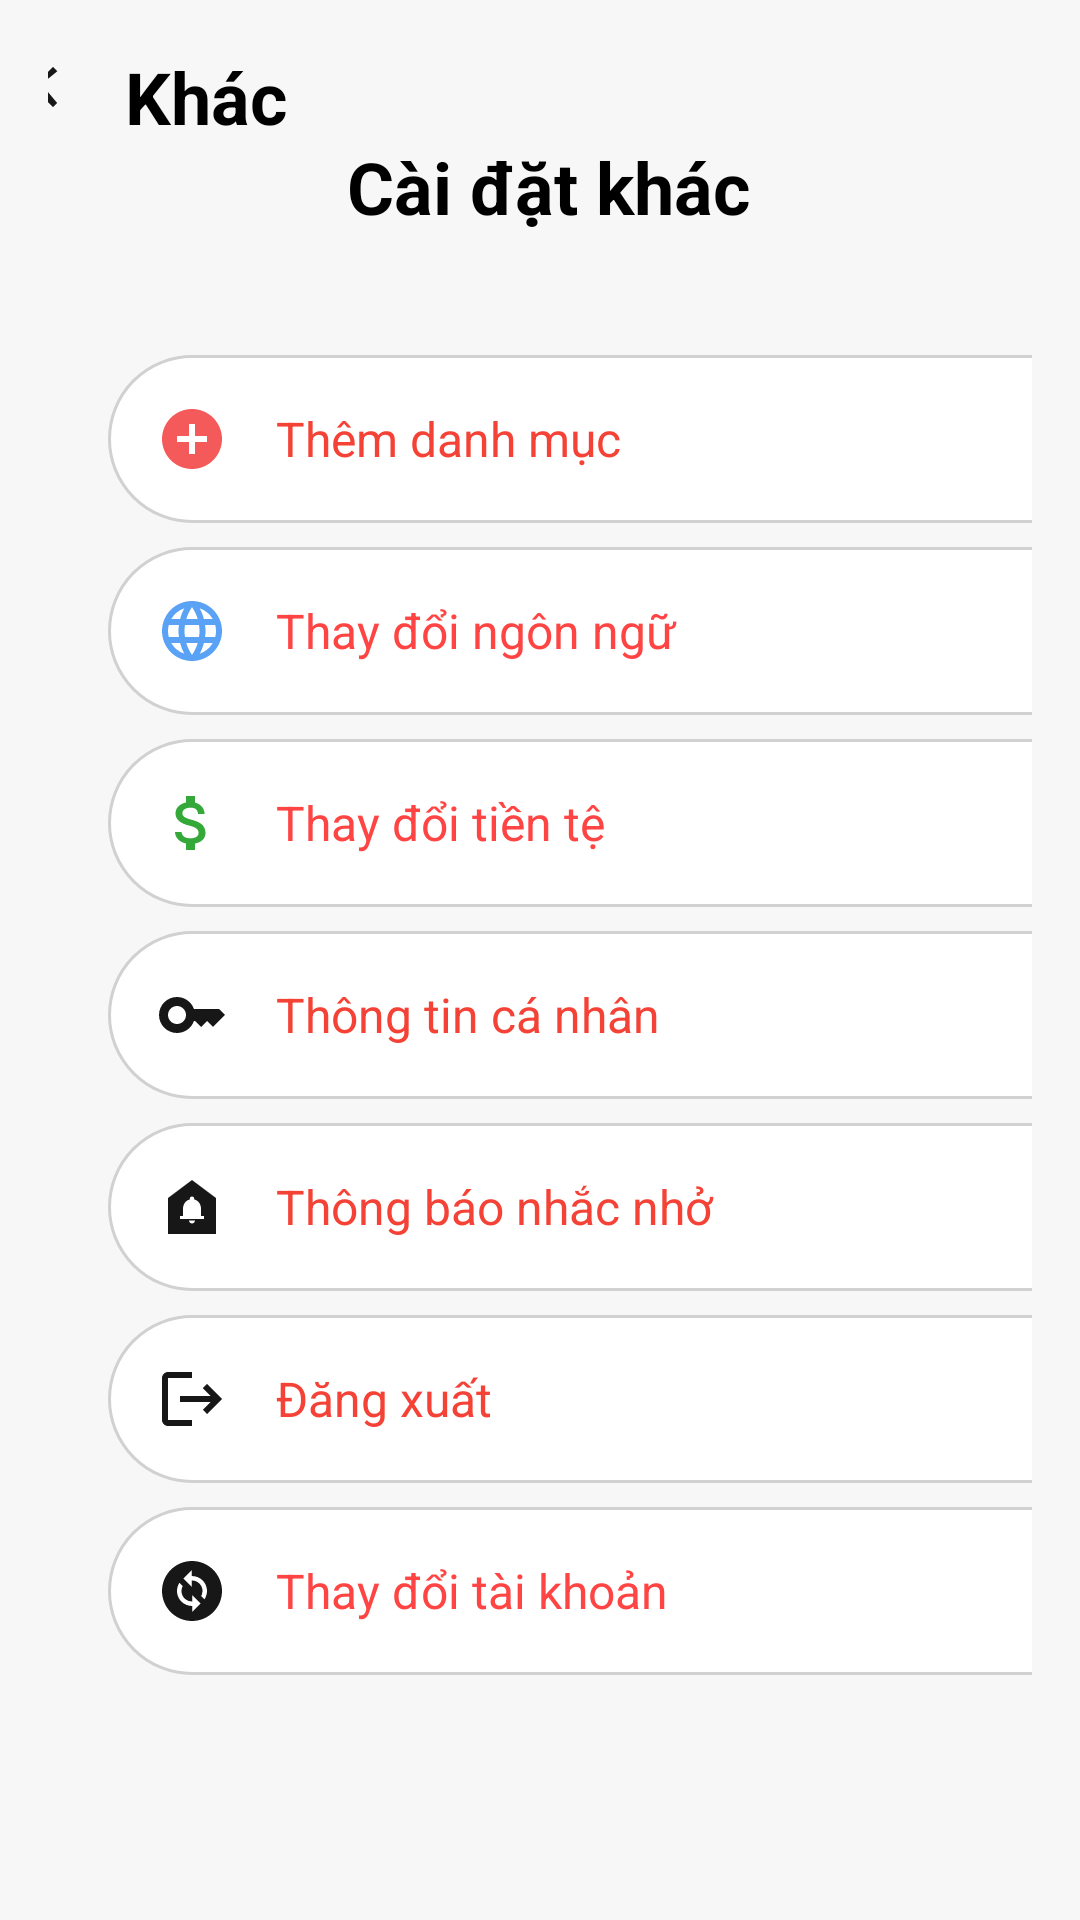

Icons on this 1080x1920 Android screen, each with its box as (x1, y1, x2, y2):
add: (162, 409, 222, 469)
bell: (168, 1180, 216, 1234)
change circle: (162, 1561, 222, 1621)
key: (159, 997, 225, 1033)
language: (162, 601, 222, 661)
money: (175, 796, 206, 850)
